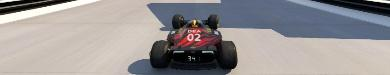Car: (148, 13, 237, 69)
